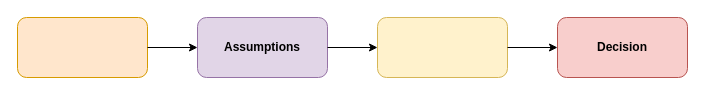
Some shapes in this 705 by 95 pixel diagram are drawn without their labels. Each missing label, with the centre of its shape:
"Problem" goes at (82,47).
"Solution" goes at (442,47).
